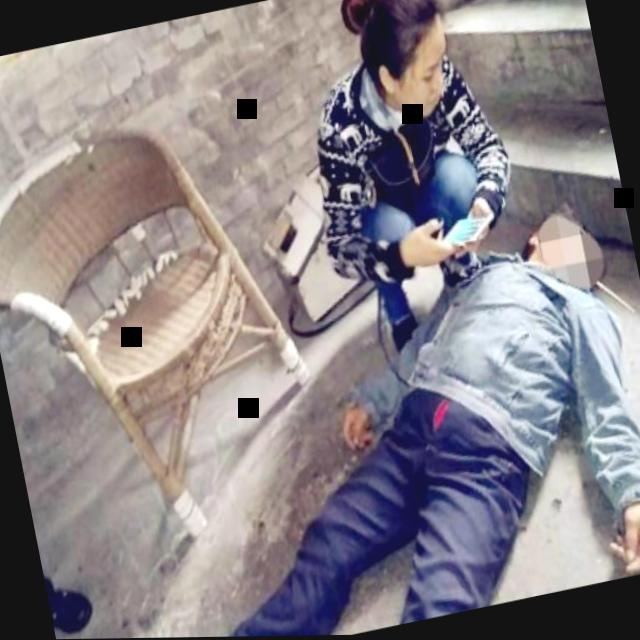Fall-Detected: (22, 177, 640, 640)
